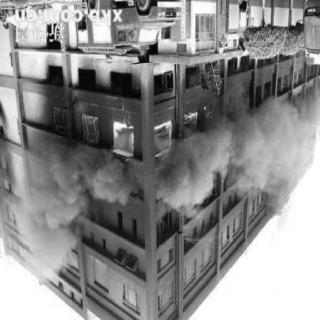Fire: (82, 114, 100, 146)
Smoke: (21, 153, 137, 294)
